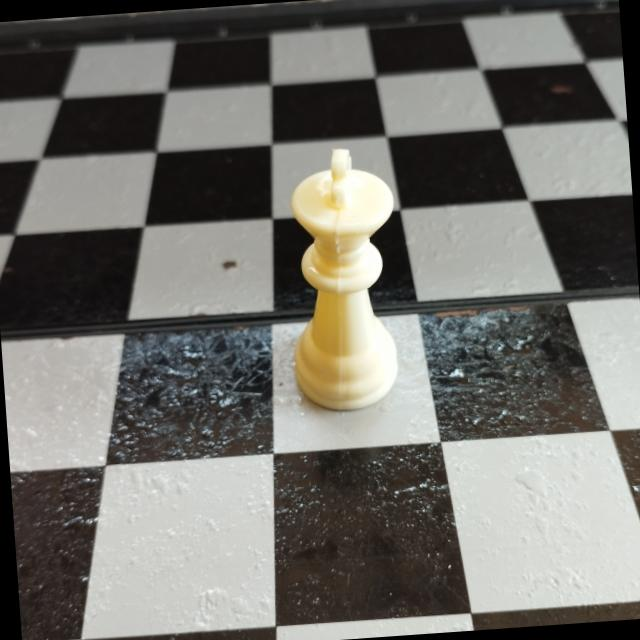White King: (277, 137, 413, 420)
